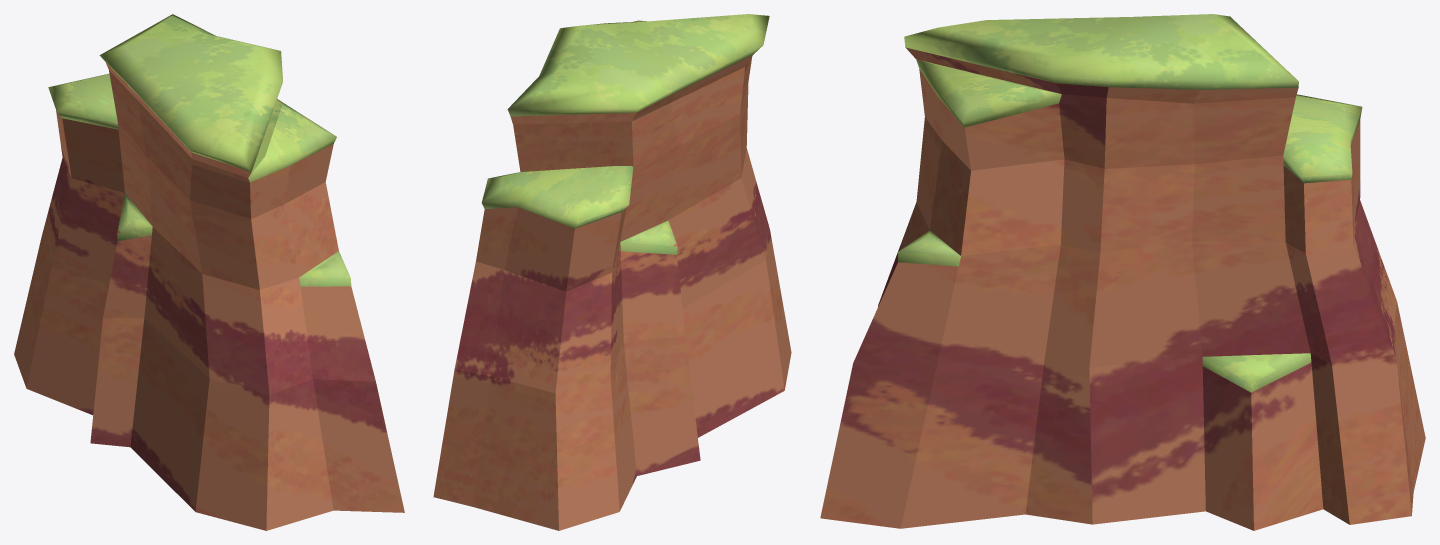
Rendered from rock3.fbx.
3 renders of one model, left to right at view 1: azimuth 30°, elevation 25°; view 2: azimuth 150°, elevation 25°; view 3: azimuth 270°, elevation 25°, orthographic. The views are drawn at different scales.
Parts seen in each view (by area): view 1: rock3; view 2: rock3; view 3: rock3.
Part boxes in pixels (bbox=[...]): rock3: bbox=[14, 14, 404, 530]; rock3: bbox=[433, 14, 791, 530]; rock3: bbox=[820, 14, 1425, 530].
Size of the model in its own units: 474 by 914 by 1115.
